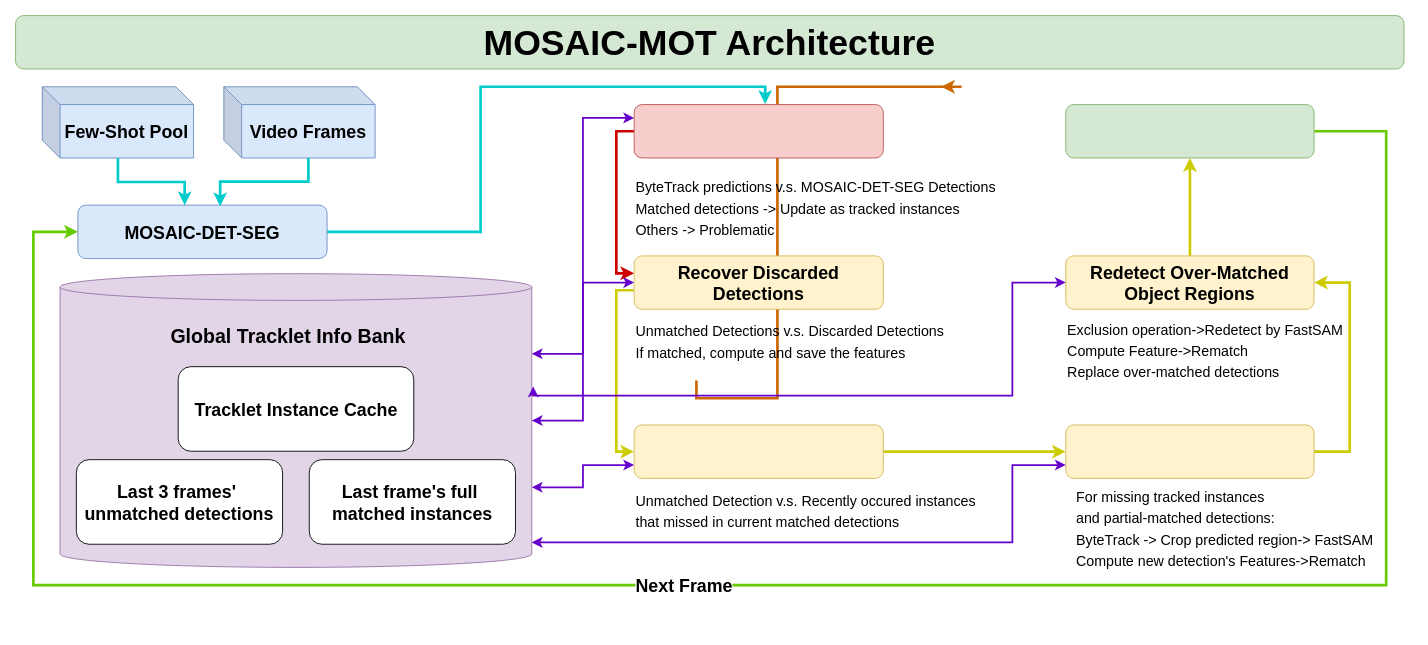
Image size: 1428x645. Some labels were removed from this diagram. Here are the shapes that lost their labels. From the top down, the centre of each, then its label:
At point 758,131: "Initial Matching".
At point 1189,131: "Frame Annotation & Saving".
At point 758,451: "Rescue from Cache".
At point 1189,451: "Redetect Missed Regions".
